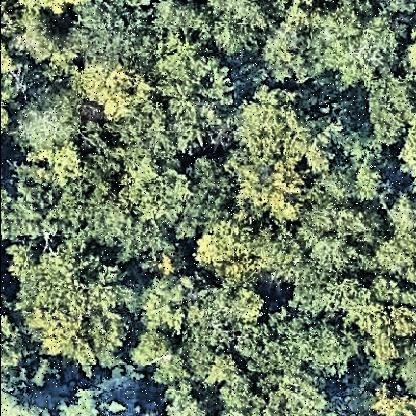tree-top: (22, 245, 134, 377), (78, 141, 184, 255), (158, 50, 241, 148), (178, 289, 265, 381), (151, 1, 279, 59), (302, 191, 381, 283), (315, 1, 395, 89), (255, 316, 361, 376), (236, 86, 314, 167), (72, 58, 151, 124), (193, 215, 263, 285), (231, 165, 307, 227), (1, 176, 67, 246), (82, 2, 150, 62), (21, 94, 81, 158), (351, 300, 416, 359), (267, 6, 315, 85), (371, 61, 413, 149), (9, 2, 65, 62), (252, 224, 303, 289), (351, 146, 399, 212), (258, 376, 324, 416), (135, 325, 179, 383), (55, 384, 116, 416), (153, 383, 209, 416), (139, 247, 187, 280)
